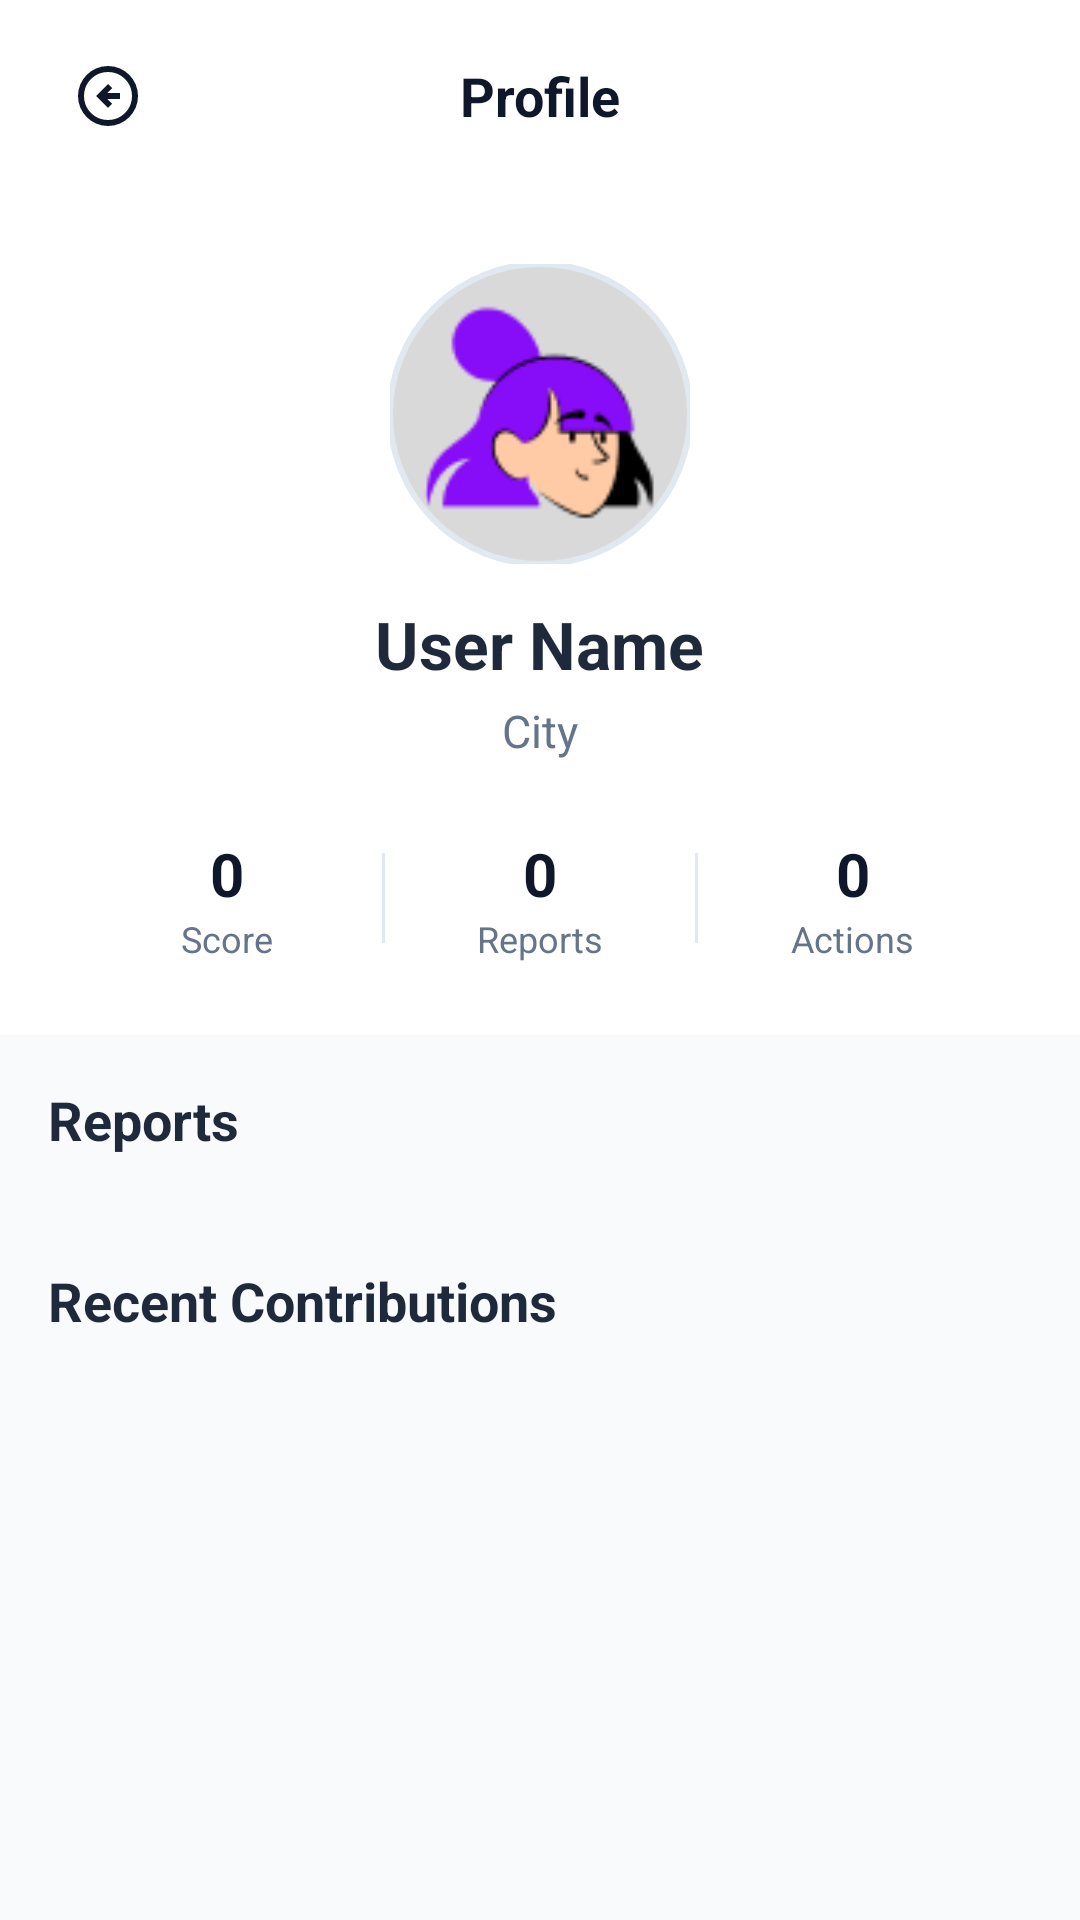

Screen size 1080 x 1920. Icon name, then its box in pixels as (x1, y1, x2, y2):
back arrow: (78, 66, 138, 126)
